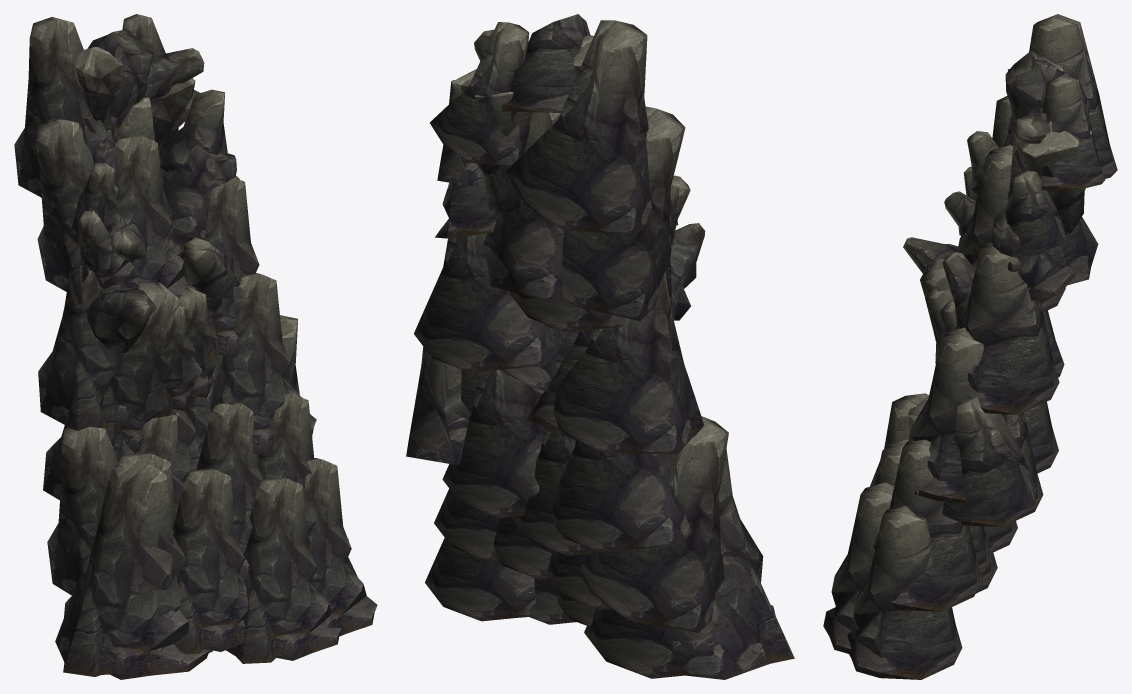
The model's file is jingjichangpaiming_wanjia01.FBX.
The picture shows the model from 3 angles, left to right: view 1: azimuth 30°, elevation 25°; view 2: azimuth 150°, elevation 25°; view 3: azimuth 270°, elevation 25°; orthographic projection. The views are drawn at different scales.
Visible parts, largest first — view 1: jingjichangpaiming_wanjia01; view 2: jingjichangpaiming_wanjia01; view 3: jingjichangpaiming_wanjia01.
Boxes of the visible parts, left/top/right/bottom form: jingjichangpaiming_wanjia01: left=14, top=14, right=377, bottom=679; jingjichangpaiming_wanjia01: left=406, top=14, right=794, bottom=679; jingjichangpaiming_wanjia01: left=823, top=14, right=1117, bottom=679.
Size of the model in its own units: 32.84 by 28.9 by 60.13.
